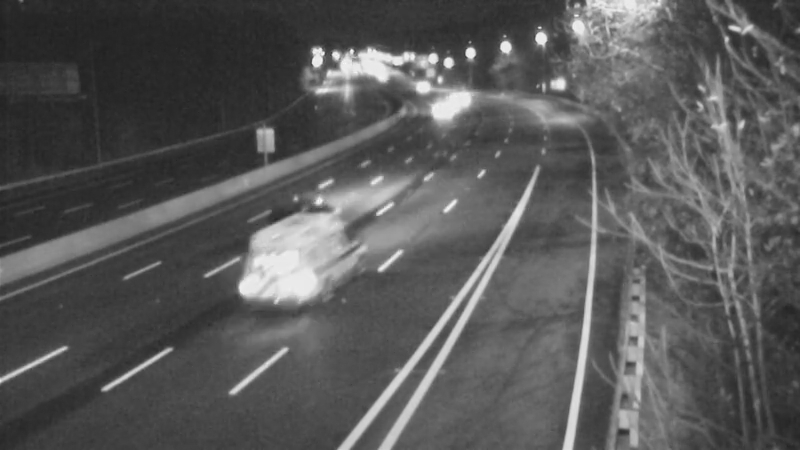vehicle: (262, 165, 342, 245), (241, 236, 321, 316), (395, 62, 445, 112), (431, 72, 481, 122), (415, 84, 465, 134)
